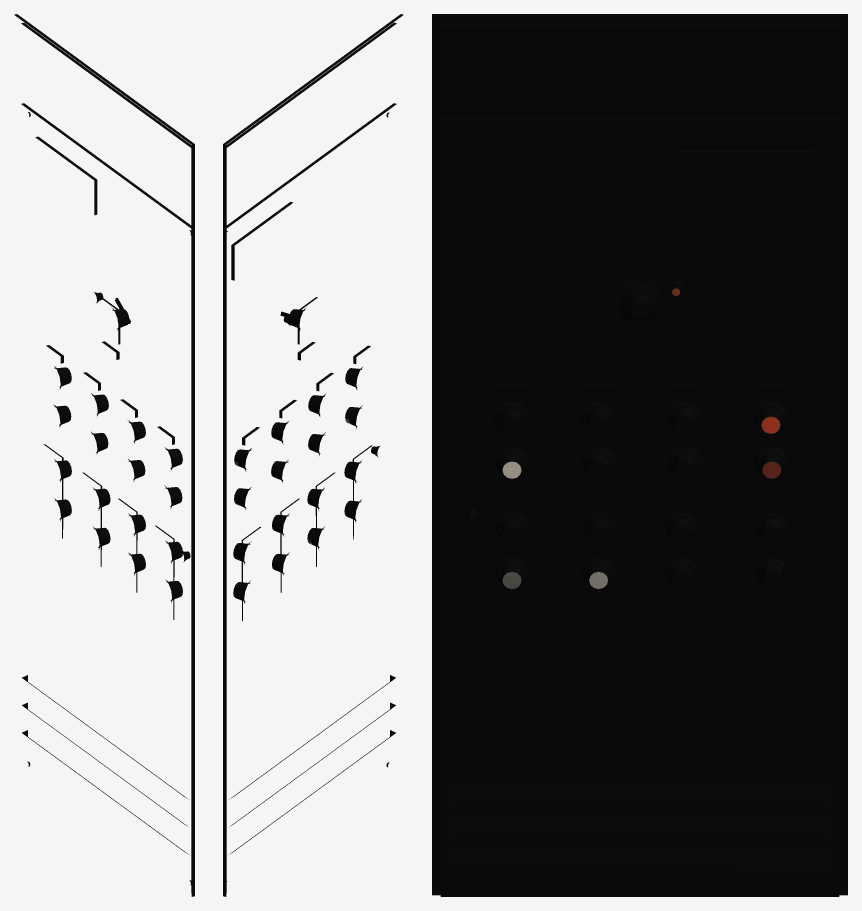
3 renders of one model, left to right at view 1: azimuth 30°, elevation 25°; view 2: azimuth 150°, elevation 25°; view 3: azimuth 270°, elevation 25°, orthographic. The views are drawn at different scales.
Parts seen in each view (by area): view 1: body0_model0_lod0_mesh0; view 2: body0_model0_lod0_mesh0; view 3: body0_model0_lod0_mesh0.
Boxes of the visible parts, x1=… form: body0_model0_lod0_mesh0: x1=14, y1=14, x2=194, y2=896; body0_model0_lod0_mesh0: x1=223, y1=14, x2=403, y2=896; body0_model0_lod0_mesh0: x1=432, y1=14, x2=847, y2=896.
Bounding box in the file's own units: 3.79 × 112 × 47.99.
Materials: 1 (1 with a texture image).
